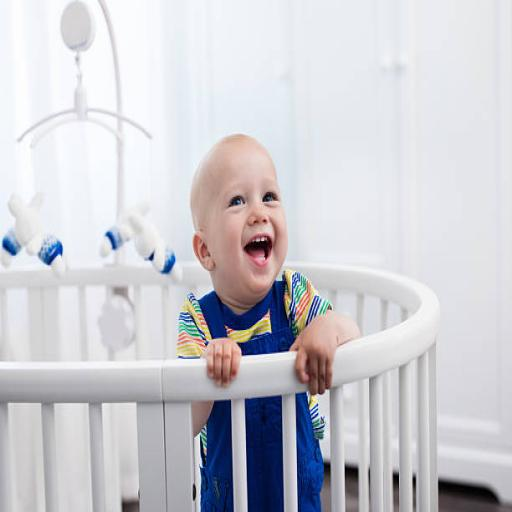baby: (178, 135, 359, 511)
crib: (0, 267, 307, 511)
